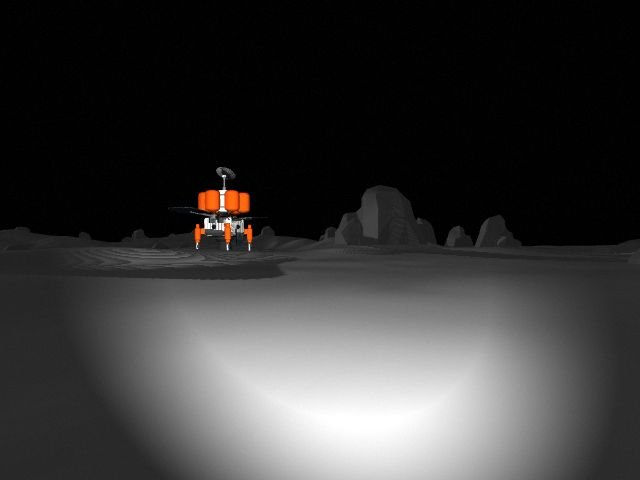homebase: (165, 165, 271, 256)
